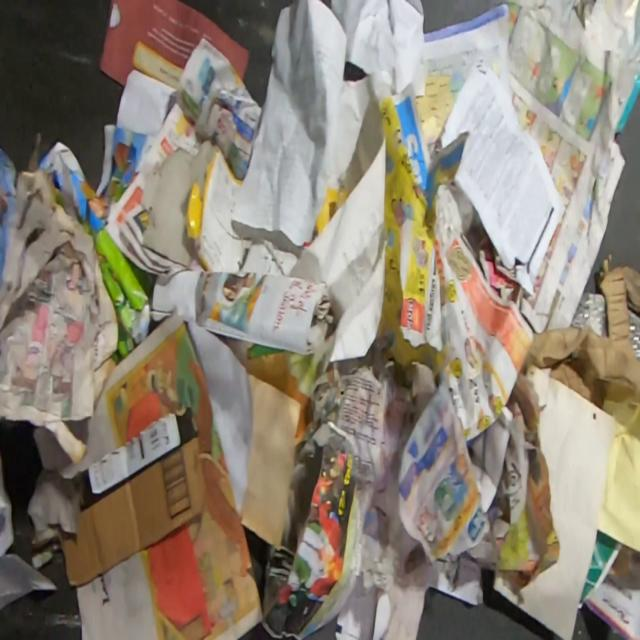cardboard: (139, 134, 304, 277), (58, 435, 209, 589), (522, 252, 640, 409), (94, 225, 155, 358), (86, 413, 180, 496)
soft_plastic: (570, 288, 608, 337), (628, 307, 640, 362)
